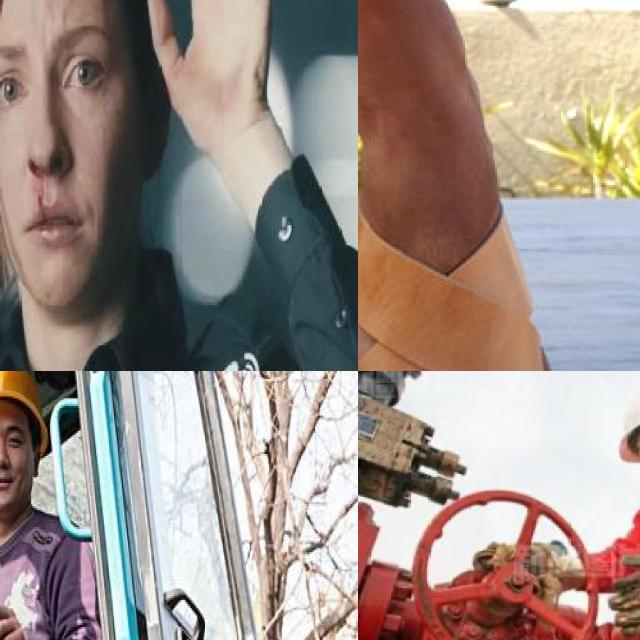No_Glasses: (0, 26, 115, 110), (0, 423, 31, 455)
Sandals: (358, 177, 561, 371)
face_nomask: (0, 0, 130, 295), (0, 427, 29, 497)
hand_glove: (610, 554, 640, 632)
hand_noglove: (144, 0, 278, 175), (0, 600, 27, 640)
head_helmet: (0, 371, 49, 440), (619, 395, 640, 462)
person: (0, 0, 358, 371), (0, 371, 98, 640)
